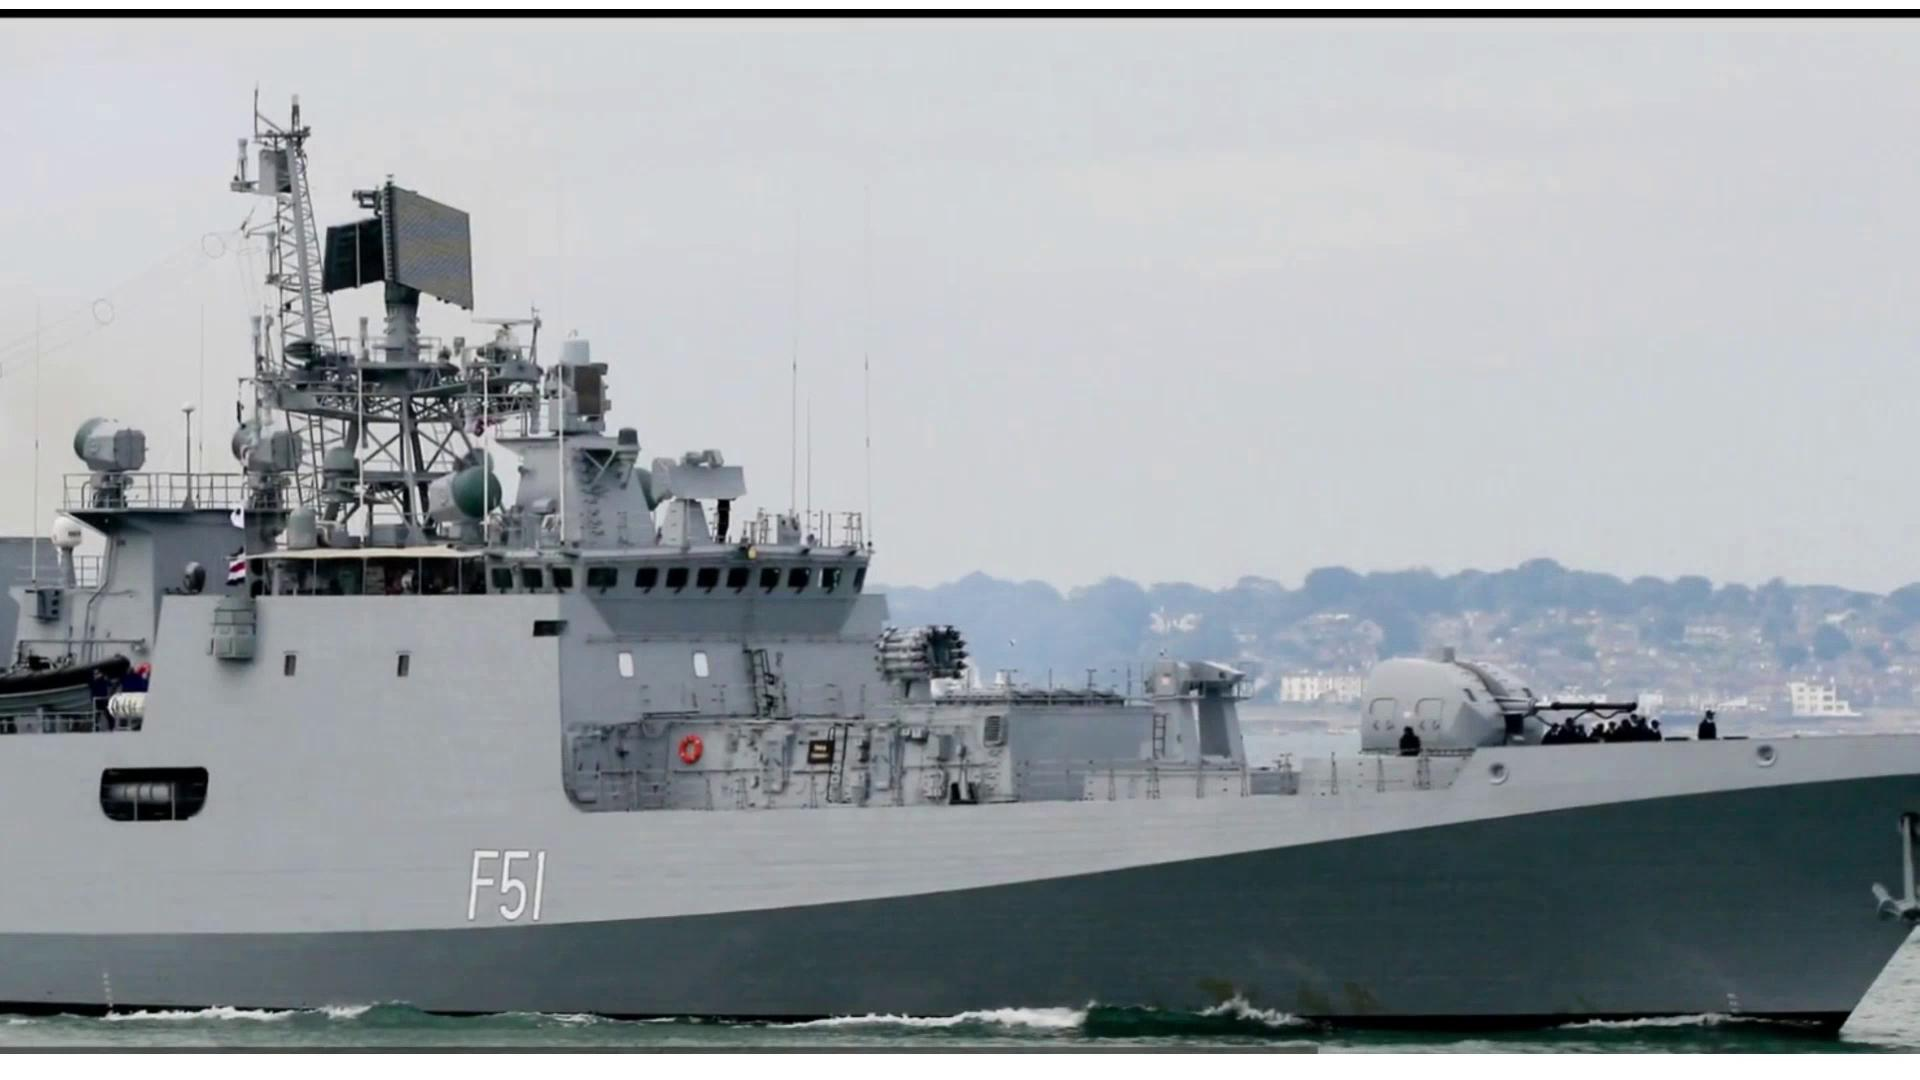OCR: (459, 844, 560, 932)
